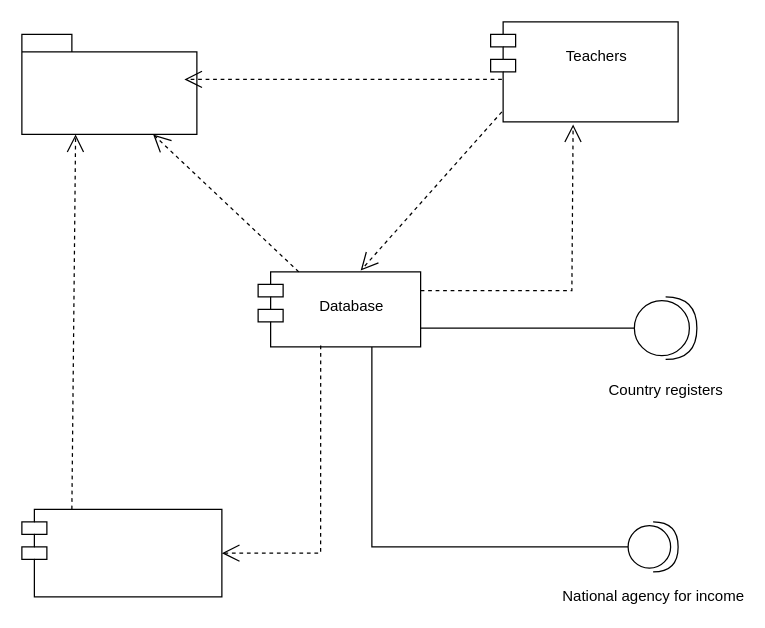
Some shapes in this 765 by 628 pixel diagram are drawn without their labels. The shapes that lost their labels are listed below. From the top down, each one's centre as x and y in pixels, then its label:
At point (109, 83): "Administration".
At point (121, 552): "Students".
